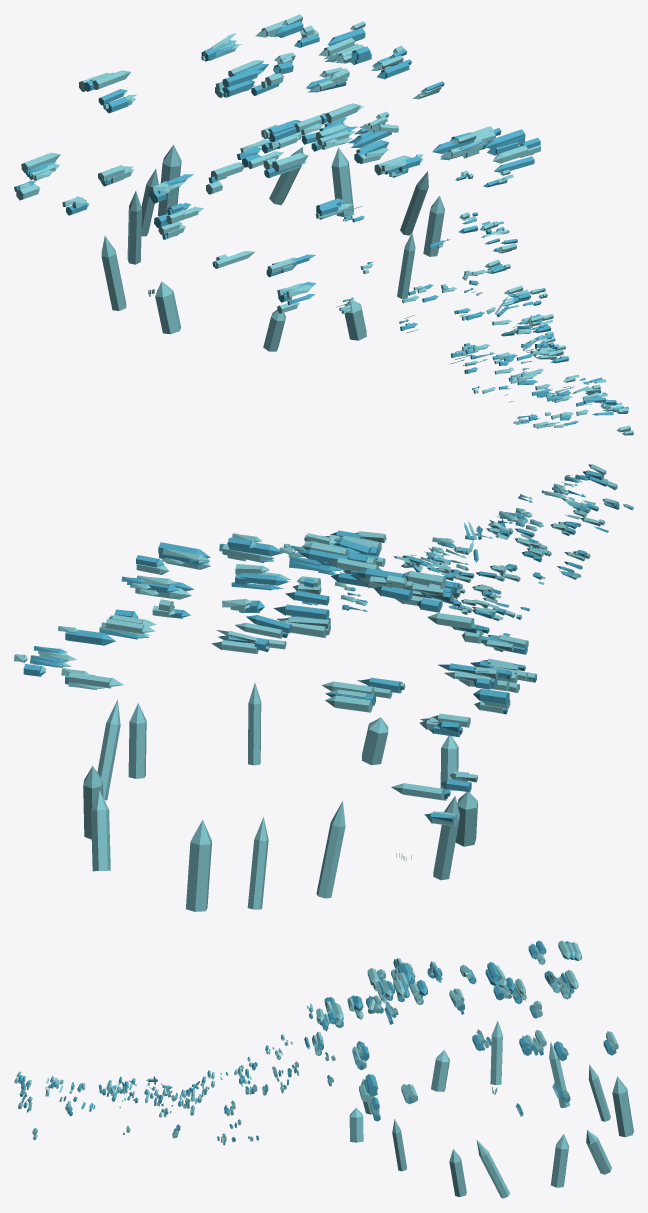
File: cave_glasswyrm_cavern_glow_lod1.glb
The picture shows the model from 3 angles, top to bottom: view 1: azimuth 30°, elevation 25°; view 2: azimuth 150°, elevation 25°; view 3: azimuth 270°, elevation 25°; orthographic projection. The views are drawn at different scales.
Visible parts, largest first — view 1: geometry_0; view 2: geometry_0; view 3: geometry_0.
Part boxes in pixels (x1=…): geometry_0: x1=14, y1=14, x2=633, y2=435; geometry_0: x1=14, y1=464, x2=633, y2=911; geometry_0: x1=14, y1=940, x2=633, y2=1198.
Bounding box in the file's own units: 89.22 × 46.23 × 153.
